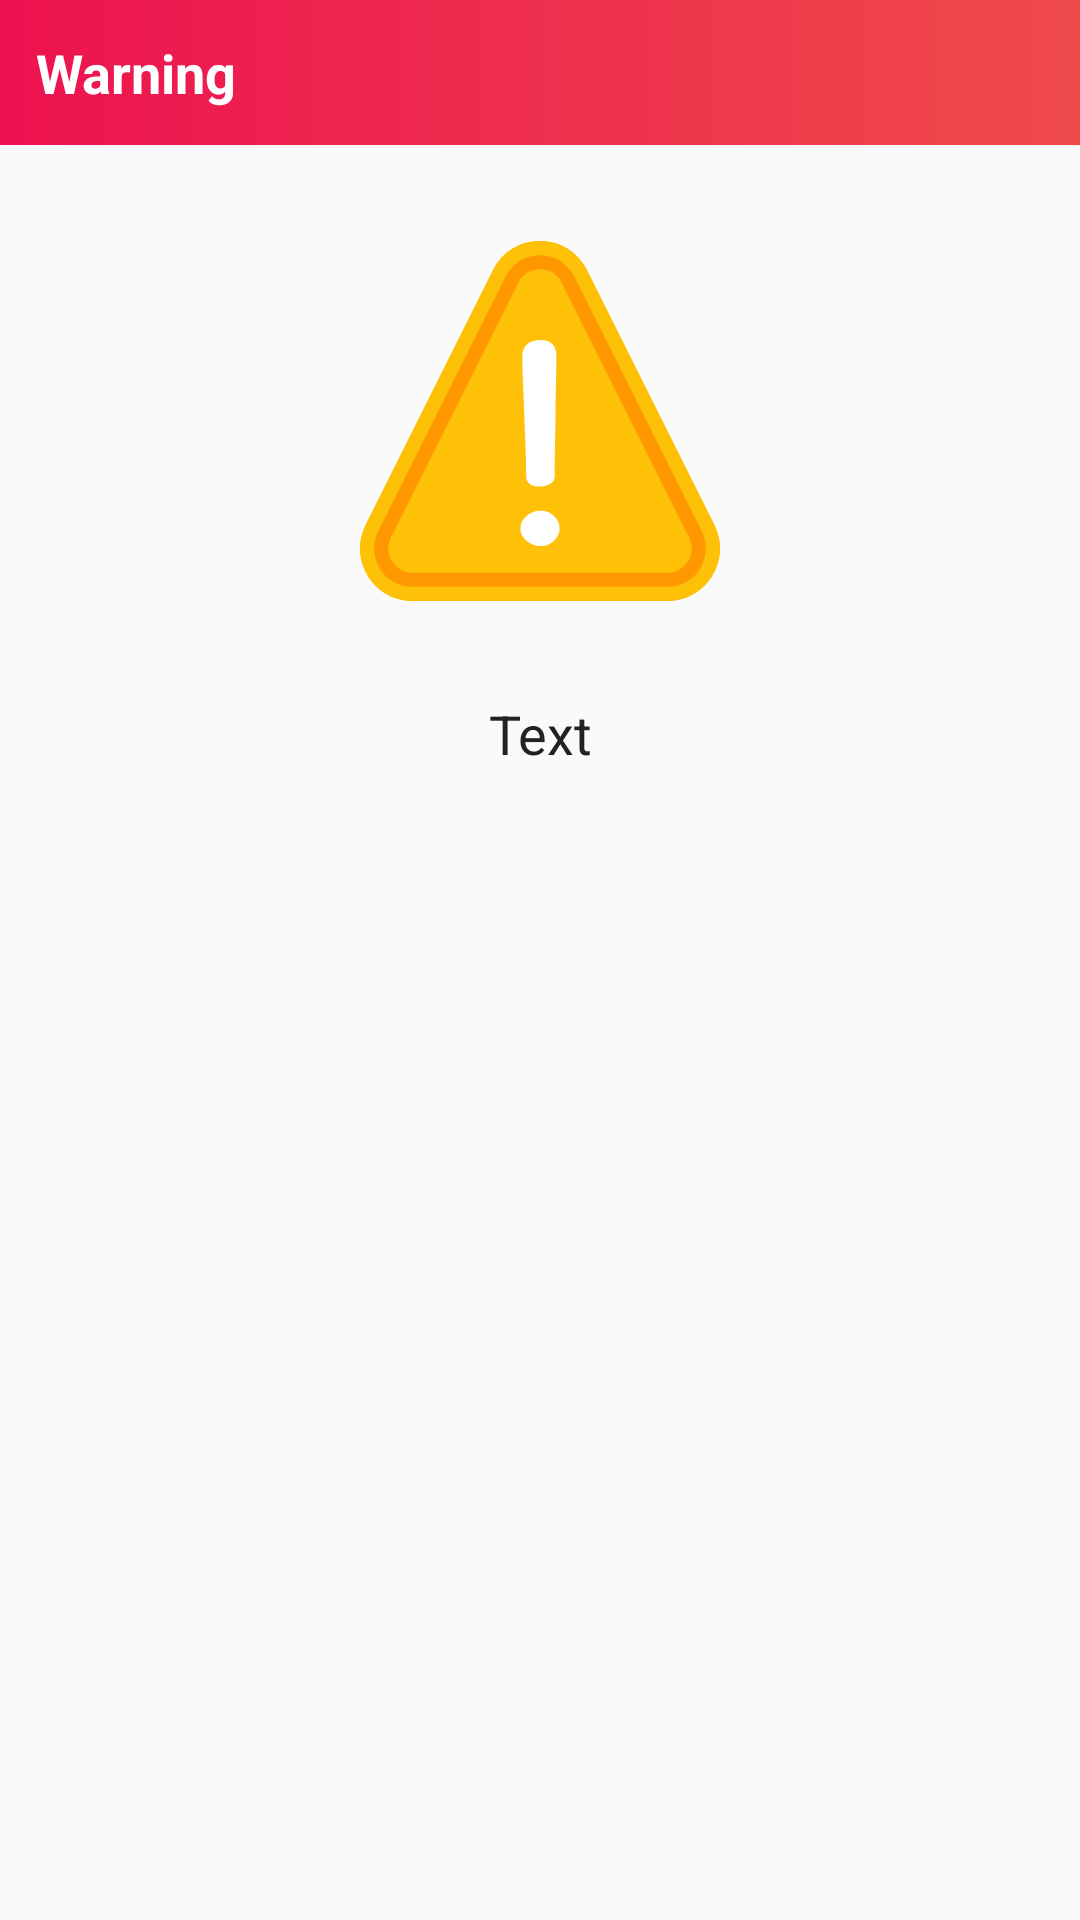

Where icons sit on this 1080px×1920px app screen, as (x1, y1, x2, y2):
alert: (360, 241, 720, 601)
